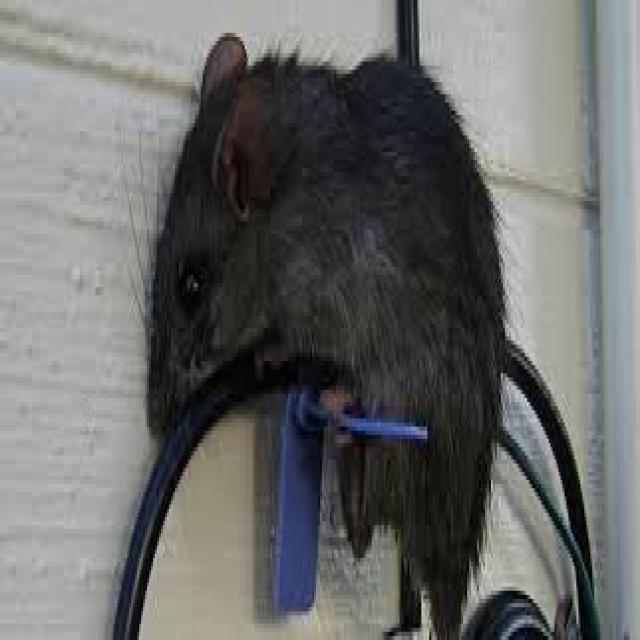rat: (139, 29, 511, 632)
